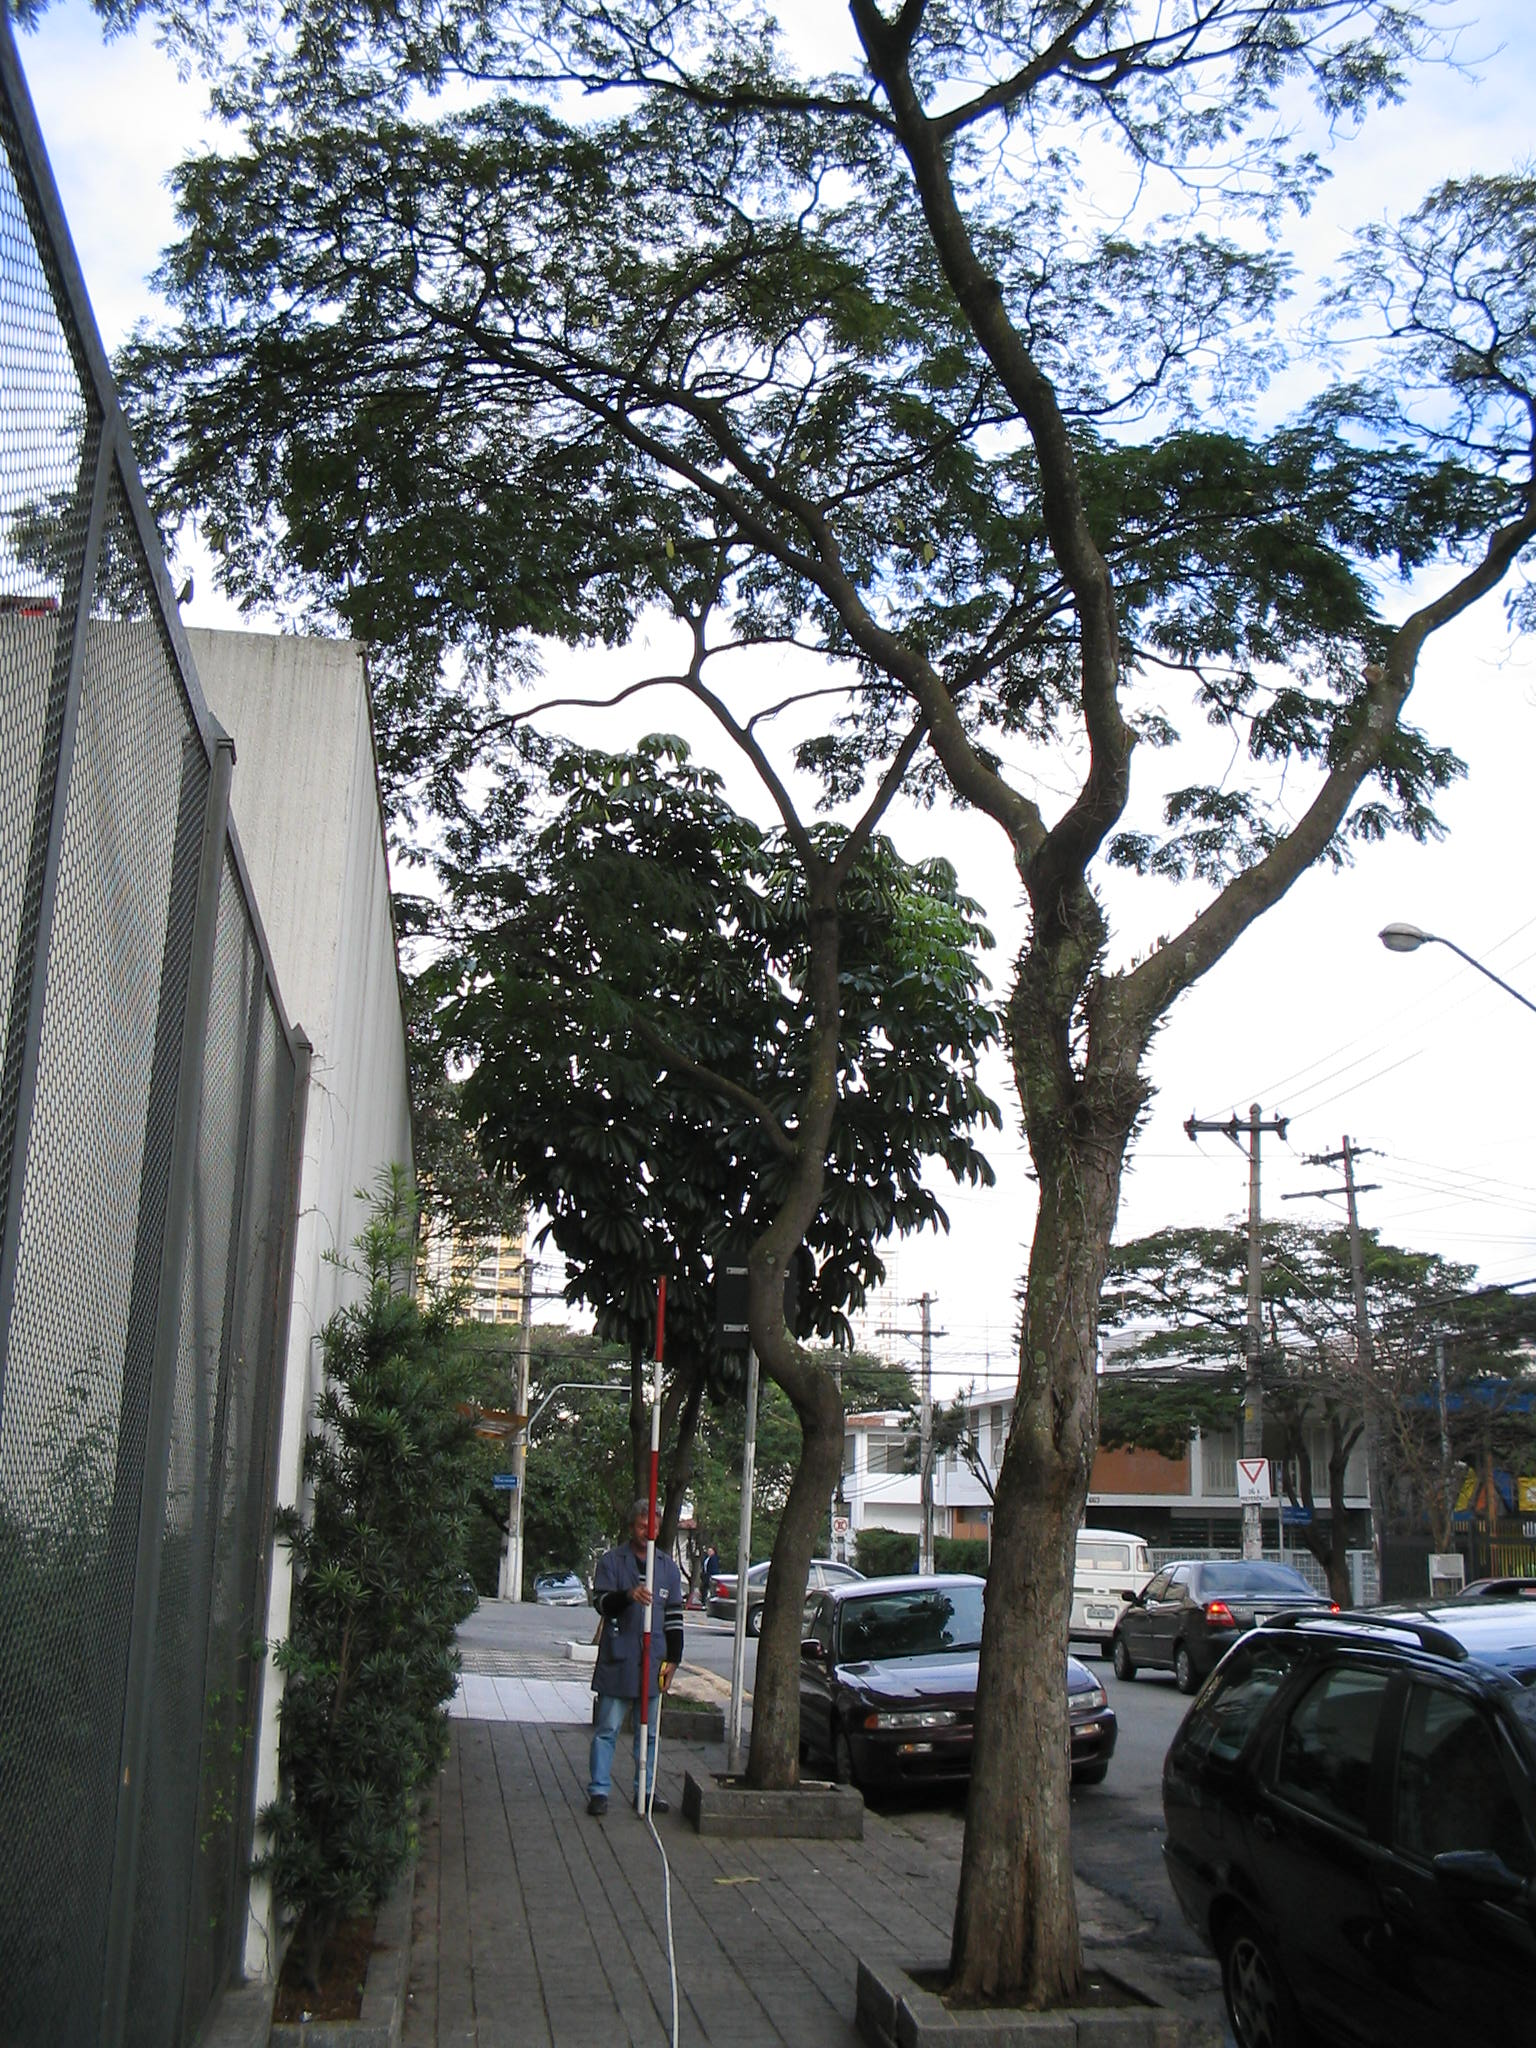stem: (729, 1305, 842, 1782)
stick: (620, 1272, 682, 1821)
tree: (24, 327, 1530, 1788)
